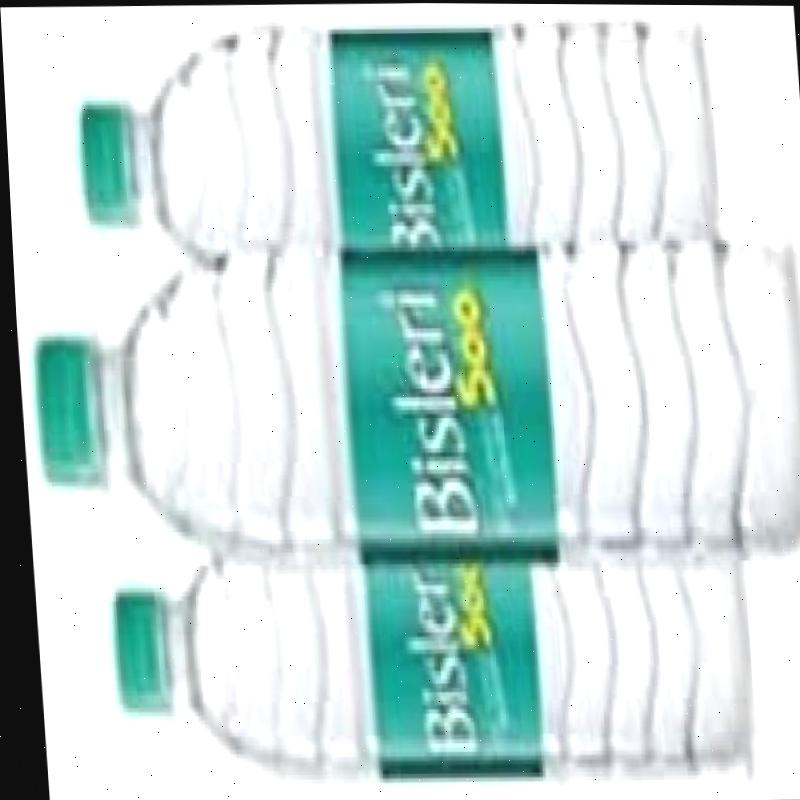botella: (20, 239, 800, 566), (69, 12, 722, 267), (101, 538, 744, 788)
